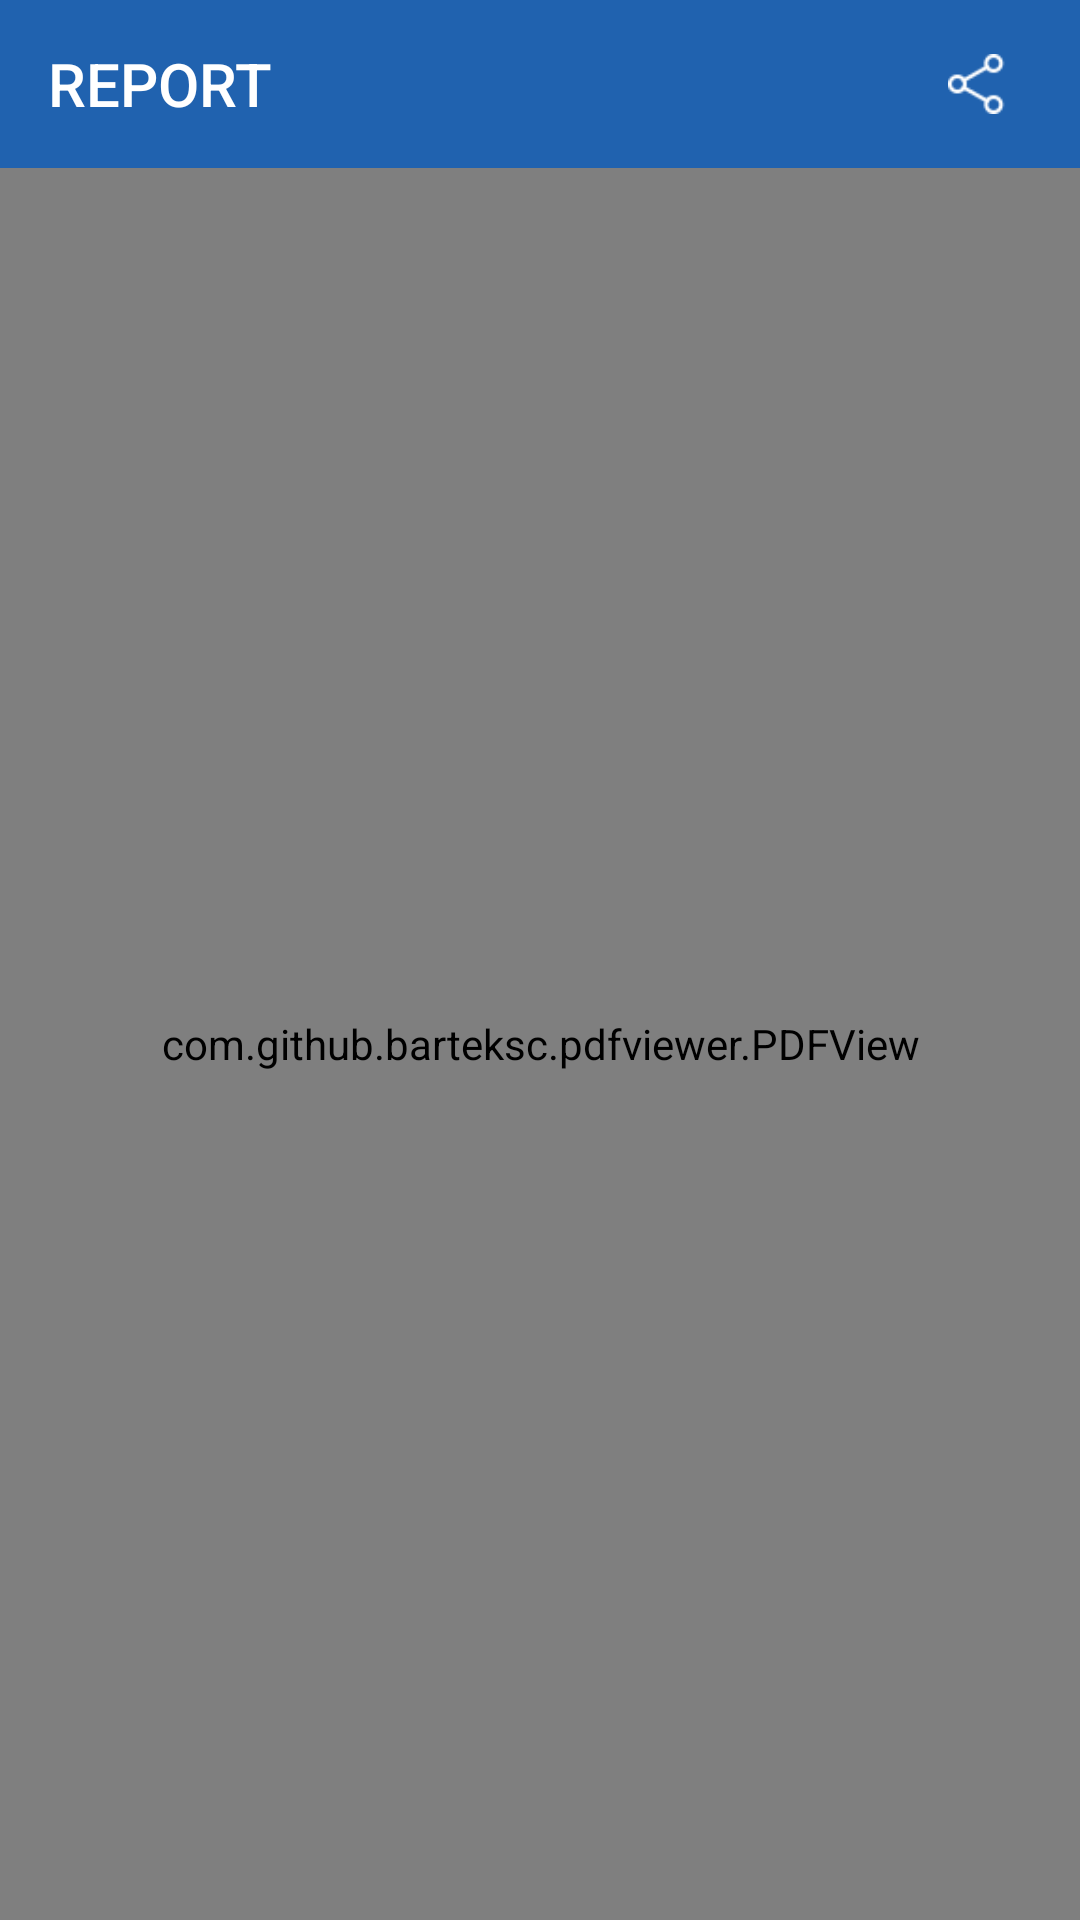

Named icons in this screenshot (1080×1920) and their bounding boxes, (x1, y1, x2, y2):
share: (948, 54, 1004, 114)
